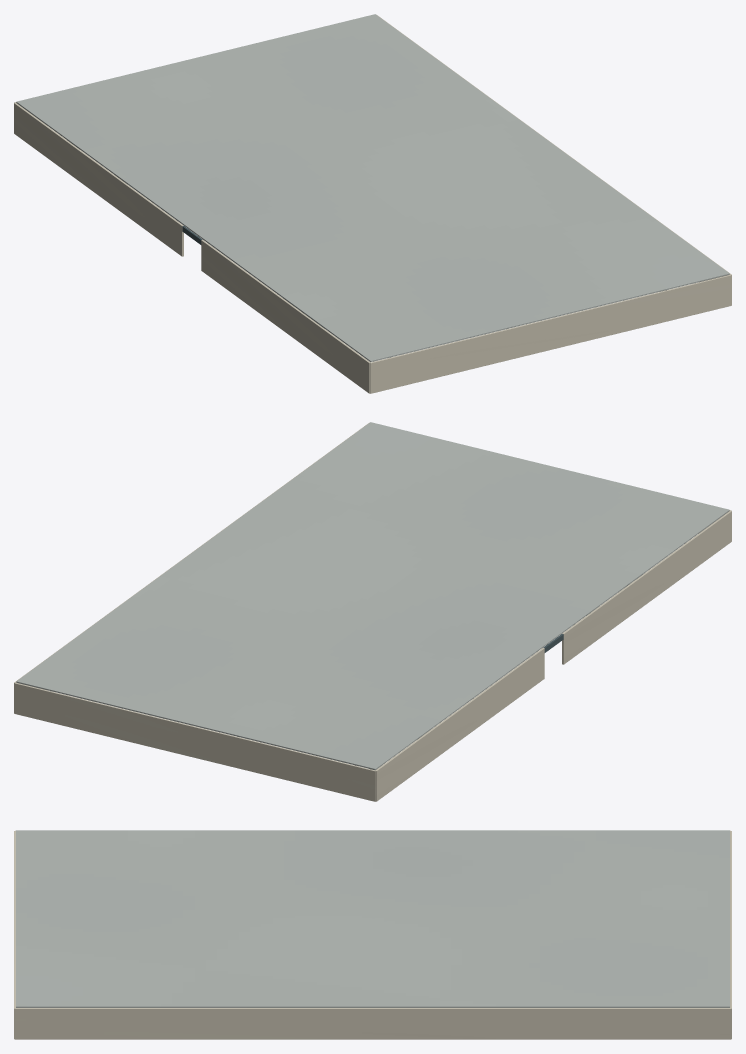
Rendered from SOL_D03_directory_03_remaining_r001.glb.
3 renders of one model, top to bottom at view 1: azimuth 30°, elevation 25°; view 2: azimuth 150°, elevation 25°; view 3: azimuth 270°, elevation 25°, orthographic.
Parts seen in each view (by area): view 1: A_Depot_fitted_ceiling, A_Depot_aft_skin, A_Depot_internal_receiving_edge_pier1, A_Depot_internal_receiving_edge_pier0; view 2: A_Depot_fitted_ceiling, A_Depot_fore_skin, A_Depot_internal_receiving_edge_pier0, A_Depot_internal_receiving_edge_pier1; view 3: A_Depot_fitted_ceiling, A_Depot_east_skin_pier0, A_Depot_fore_skin, A_Depot_aft_skin.
Boxes of the visible parts, left/top/right/bottom form: A_Depot_fitted_ceiling: left=16, top=14, right=729, bottom=362; A_Depot_aft_skin: left=370, top=274, right=731, bottom=393; A_Depot_internal_receiving_edge_pier1: left=201, top=239, right=370, bottom=393; A_Depot_internal_receiving_edge_pier0: left=14, top=102, right=183, bottom=256; A_Depot_fitted_ceiling: left=16, top=422, right=729, bottom=770; A_Depot_fore_skin: left=14, top=682, right=375, bottom=801; A_Depot_internal_receiving_edge_pier0: left=375, top=647, right=544, bottom=801; A_Depot_internal_receiving_edge_pier1: left=562, top=510, right=731, bottom=664; A_Depot_fitted_ceiling: left=16, top=830, right=729, bottom=1007; A_Depot_east_skin_pier0: left=15, top=1008, right=730, bottom=1039; A_Depot_fore_skin: left=730, top=831, right=731, bottom=1039; A_Depot_aft_skin: left=14, top=831, right=15, bottom=1039.
Size of the model in its own units: 39.6 by 3.34 by 67.38.
33 materials, 33 textured.
